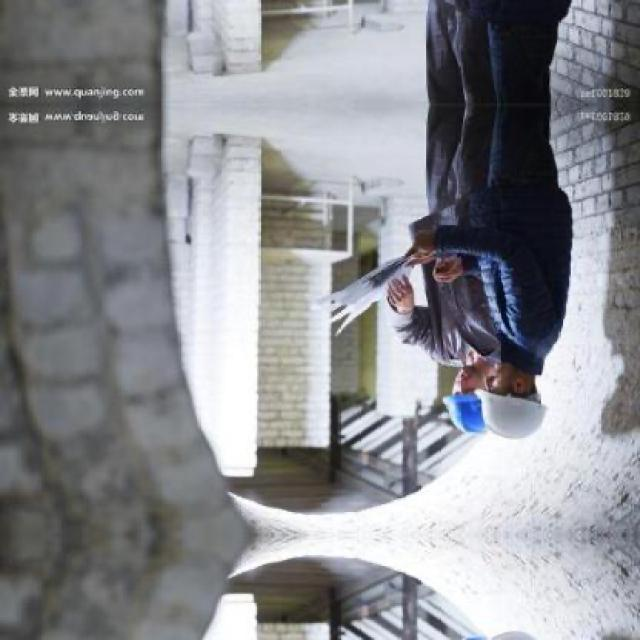con casco: (474, 352, 574, 452), (429, 325, 508, 450)
